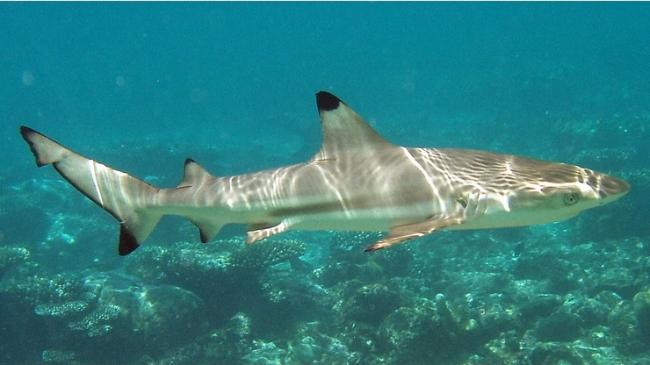fish: (21, 90, 631, 255)
